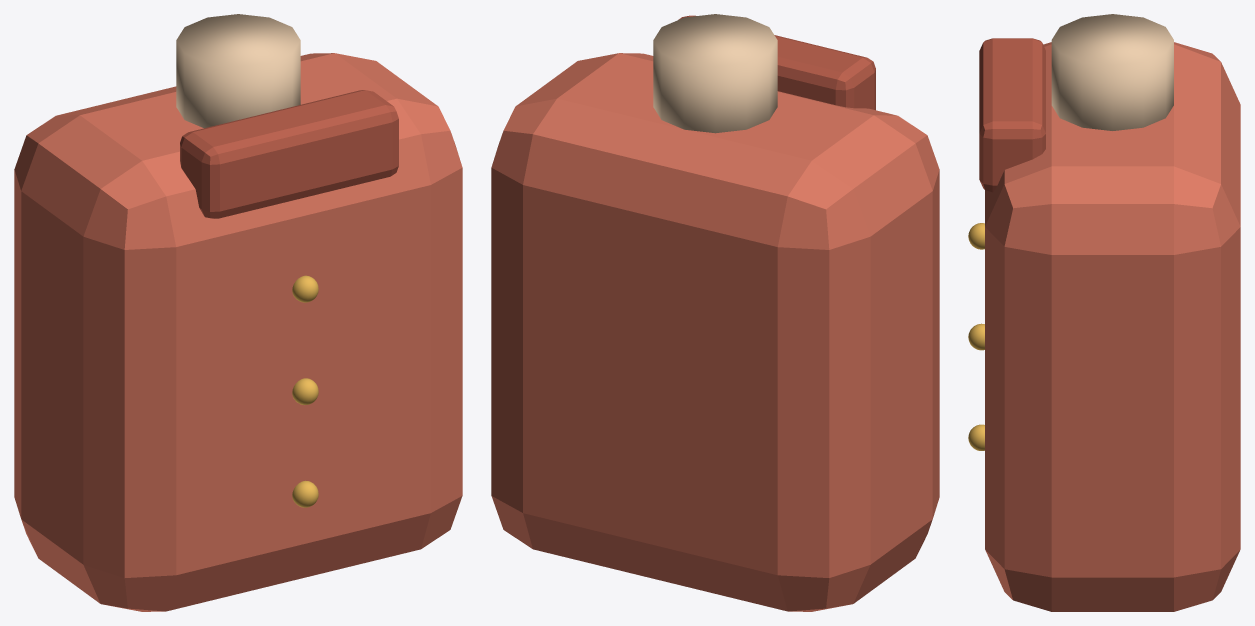
File: fig_torso_shirt.glb
3 renders of one model, left to right at view 1: azimuth 30°, elevation 25°; view 2: azimuth 150°, elevation 25°; view 3: azimuth 270°, elevation 25°, orthographic.
Visible parts, largest first — view 1: cloth_body, cloth2_collar, skin_neck; view 2: cloth_body, skin_neck, cloth2_collar; view 3: cloth_body, skin_neck, cloth2_collar, accent_button.001, accent_button, accent_button.002.
Part boxes in pixels (left/top/right/bottom): cloth_body: left=14, top=53, right=462, bottom=611; cloth2_collar: left=180, top=90, right=398, bottom=218; skin_neck: left=176, top=14, right=300, bottom=128; cloth_body: left=491, top=53, right=939, bottom=611; skin_neck: left=653, top=14, right=777, bottom=133; cloth2_collar: left=678, top=15, right=875, bottom=110; cloth_body: left=985, top=42, right=1240, bottom=611; skin_neck: left=1051, top=14, right=1173, bottom=130; cloth2_collar: left=979, top=38, right=1045, bottom=192; accent_button.001: left=968, top=323, right=984, bottom=350; accent_button: left=968, top=424, right=984, bottom=450; accent_button.002: left=968, top=223, right=984, bottom=249.
Size of the model in its own units: 0.38 by 0.505 by 0.245.
